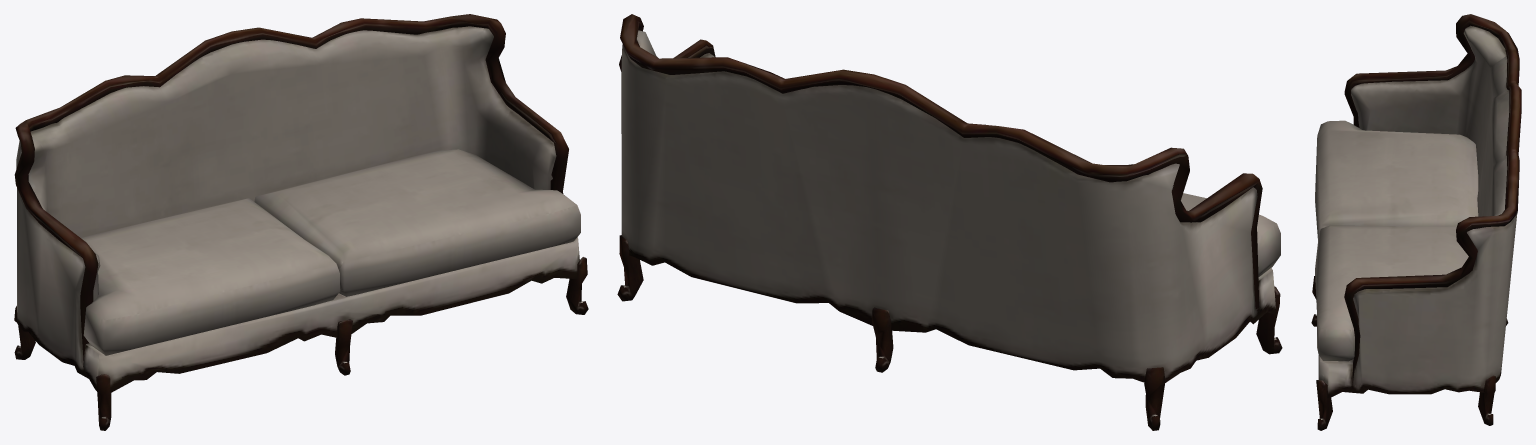
File: sofa_leather.glb
3 views of the same model, side by side, from view 1: azimuth 30°, elevation 25°; view 2: azimuth 150°, elevation 25°; view 3: azimuth 270°, elevation 25° (orthographic). The views are drawn at different scales.
Parts seen in each view (by area): view 1: sofa_leather; view 2: sofa_leather; view 3: sofa_leather.
Boxes of the visible parts, x1=… form: sofa_leather: x1=14, y1=14, x2=588, y2=430; sofa_leather: x1=617, y1=14, x2=1282, y2=430; sofa_leather: x1=1311, y1=14, x2=1521, y2=430.
Bounding box in the file's own units: 1.57 × 0.7954 × 0.6568.
1 material, 1 textured.
